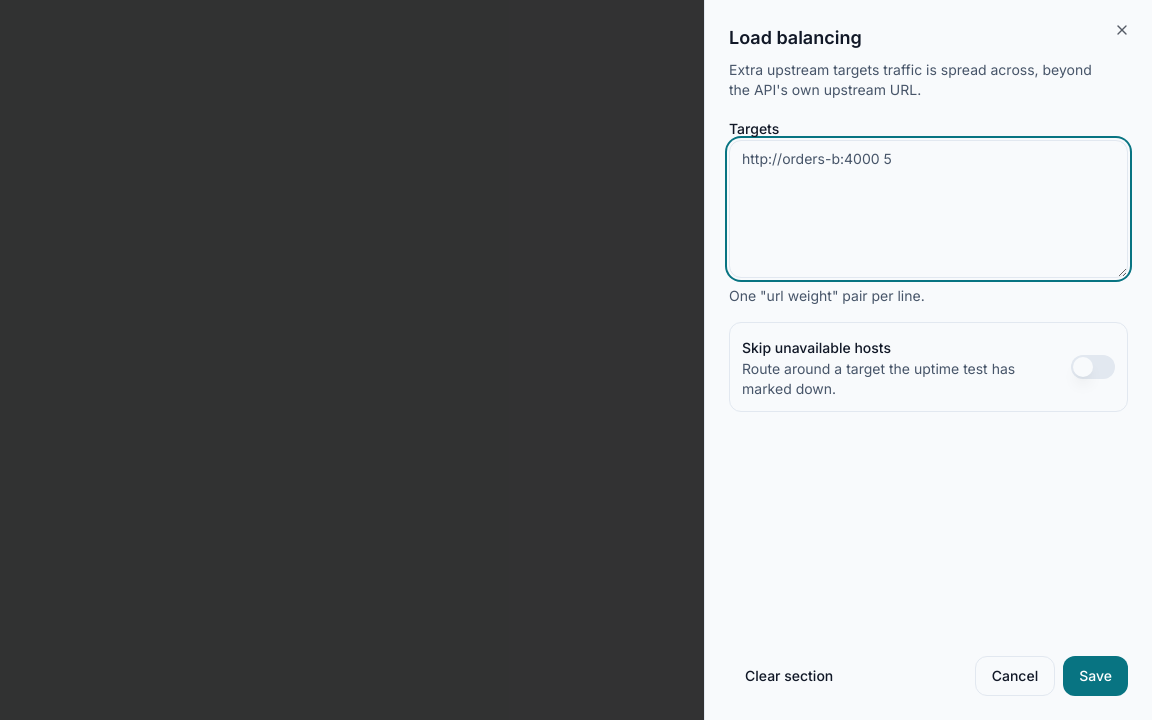
Test: LoadBalancingSheet › rejects a line missing the weight
Type "http://orders-b:4000" into the text box labelled "Targets".
click(928, 209); type("http://orders-b:4000")  # box [729,140,1128,278]
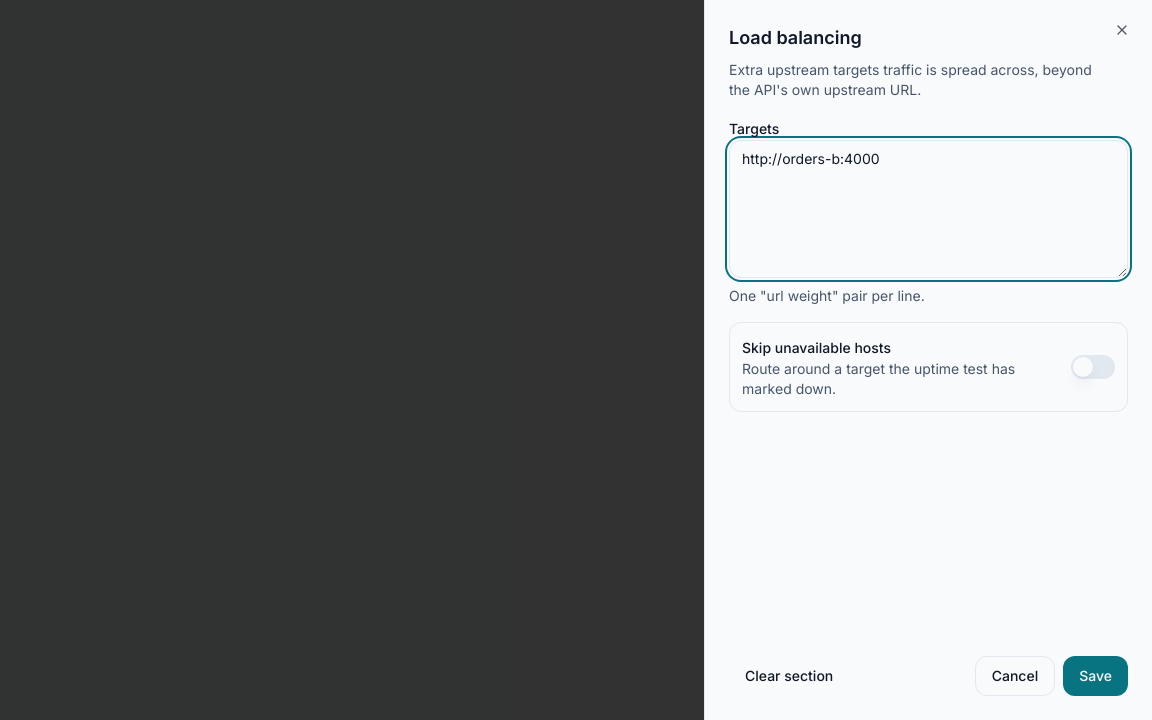
Click the button "Save".
click(1096, 676)  # box [1063,656,1128,696]
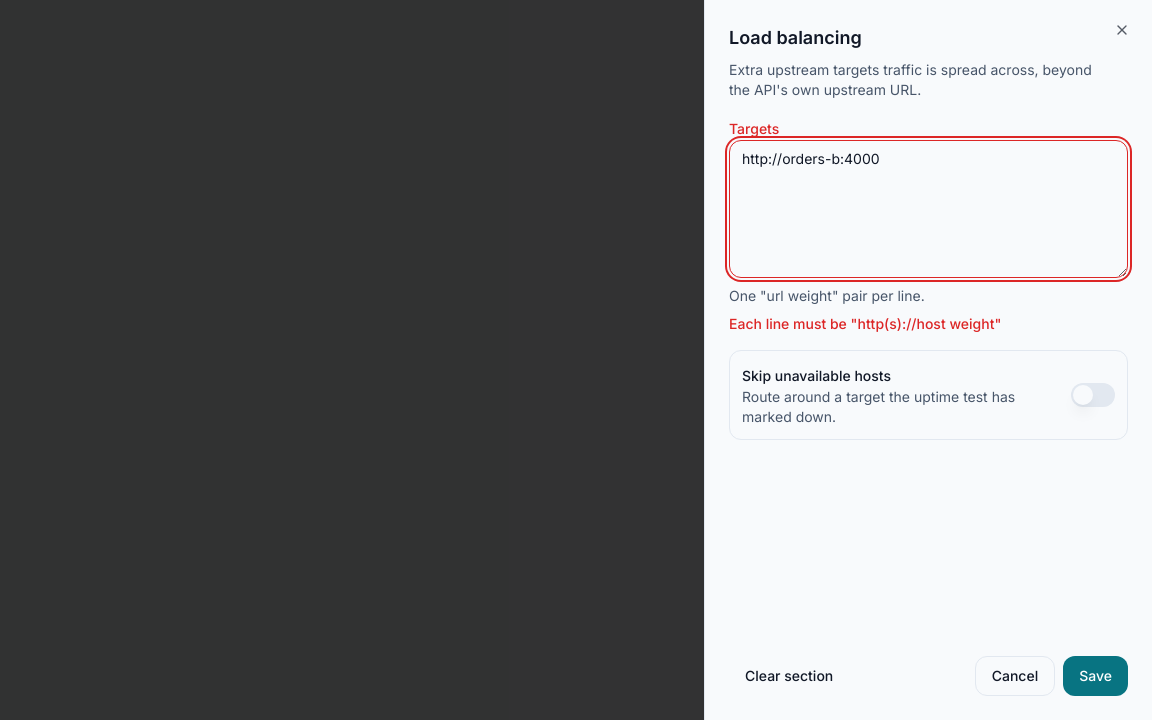
Check: the text "Each line must be \"http(s)://host weight\"" is shown, box [729,315,1001,332]
